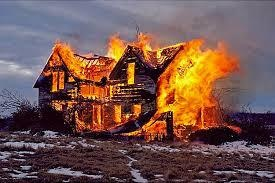fire: (39, 23, 240, 139)
